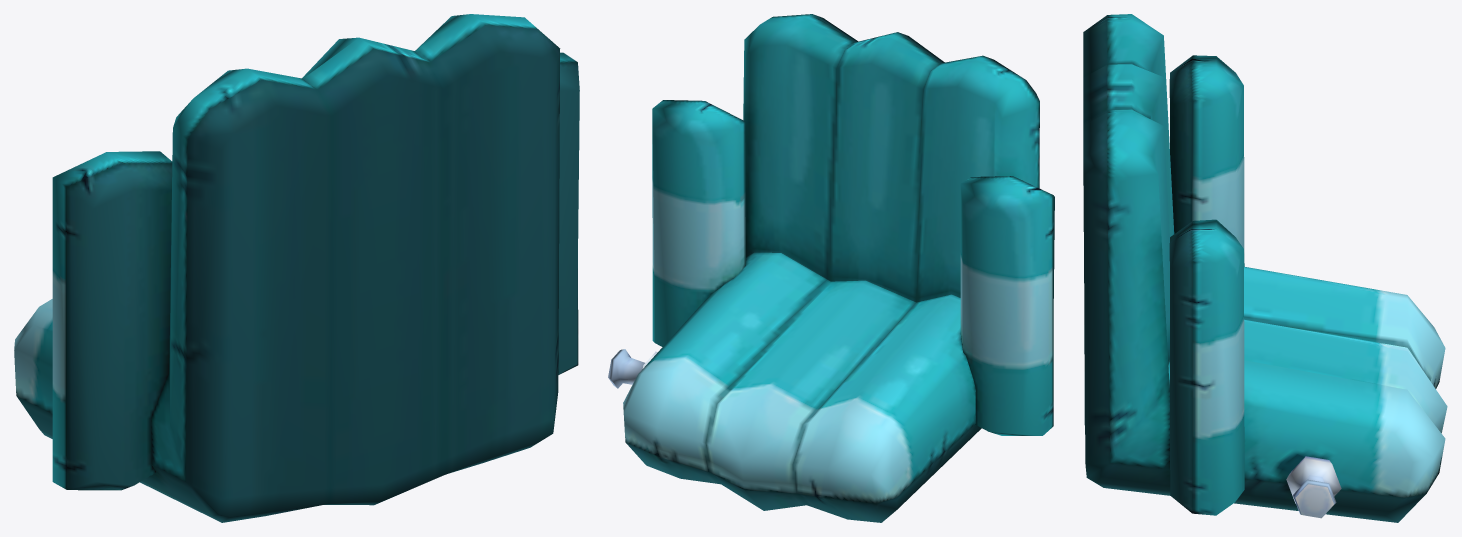
Rendered from InflatableBeachChairGreen.fbx.
3 renders of one model, left to right at view 1: azimuth 30°, elevation 25°; view 2: azimuth 150°, elevation 25°; view 3: azimuth 270°, elevation 25°, orthographic. The views are drawn at different scales.
Parts seen in each view (by area): view 1: InflatableChairGreen; view 2: InflatableChairGreen; view 3: InflatableChairGreen.
Part boxes in pixels (x1=…): InflatableChairGreen: x1=14, y1=14, x2=579, y2=522; InflatableChairGreen: x1=608, y1=14, x2=1054, y2=522; InflatableChairGreen: x1=1083, y1=14, x2=1447, y2=522.
Size of the model in its own units: 114 by 106 by 84.79.
